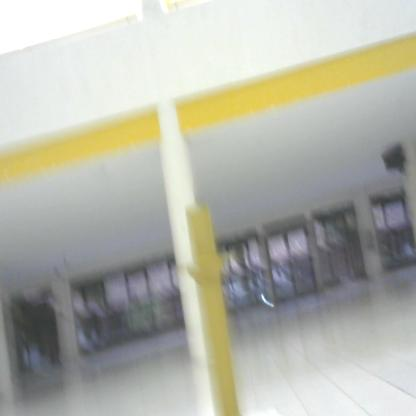pole: (167, 199, 257, 416)
